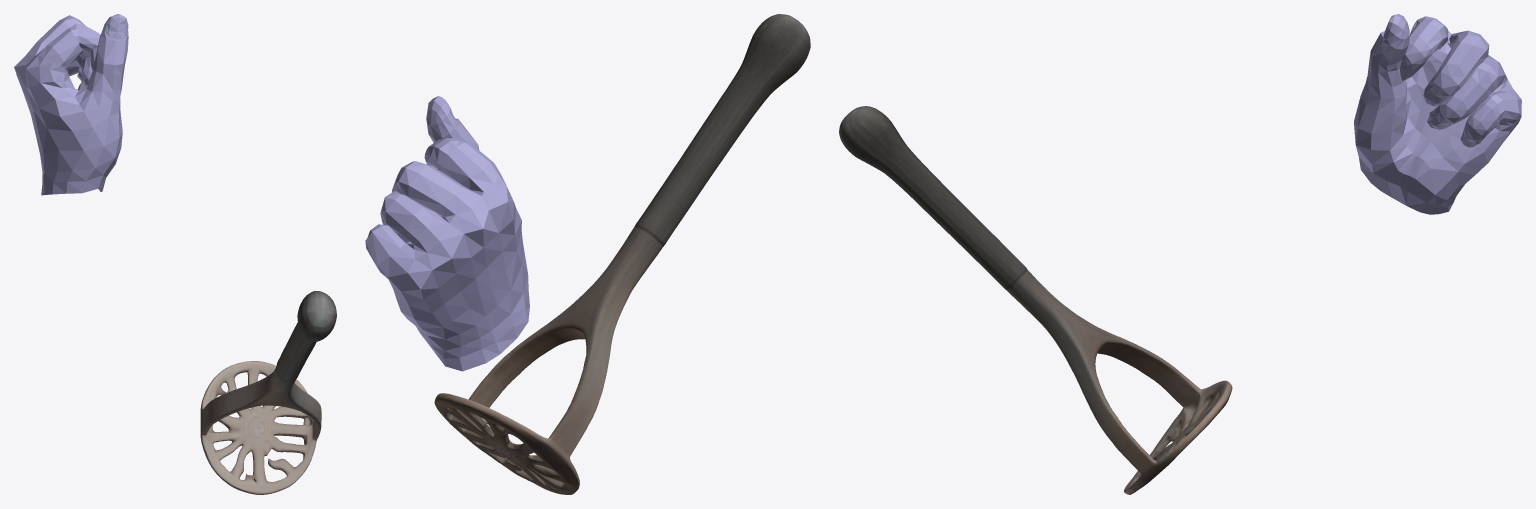
Rendered from frame_0049_source_000049_hand_object.glb.
3 views of the same model, side by side, from view 1: azimuth 30°, elevation 25°; view 2: azimuth 150°, elevation 25°; view 3: azimuth 270°, elevation 25° (orthographic). The views are drawn at different scales.
Parts seen in each view (by area): view 1: world; view 2: world; view 3: world.
Part boxes in pixels (<box>): world: <box>14,14,336,494</box>; world: <box>365,14,810,494</box>; world: <box>839,14,1521,494</box>.
Size of the model in its own units: 0.1188 by 0.27 by 0.367.
